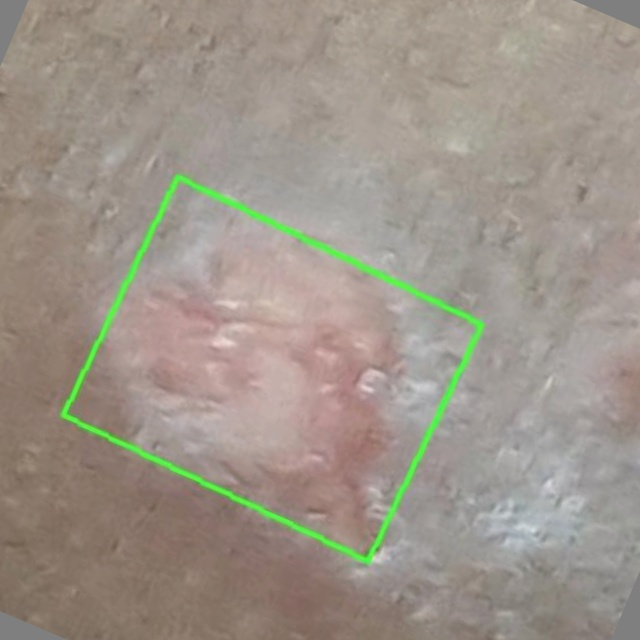Eczema: (63, 177, 483, 561)
